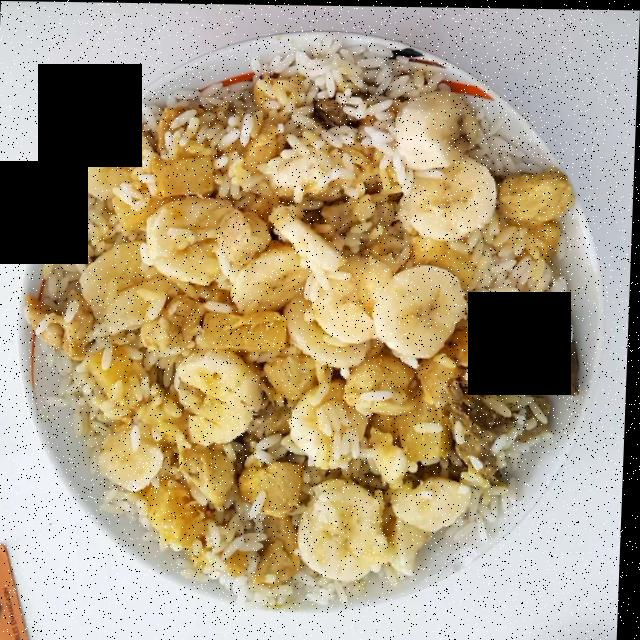banana: (102, 90, 495, 581)
chicken-curry-cream-coconut-milk-curry-spices-paste: (33, 110, 570, 582)
rice: (57, 60, 543, 590)
